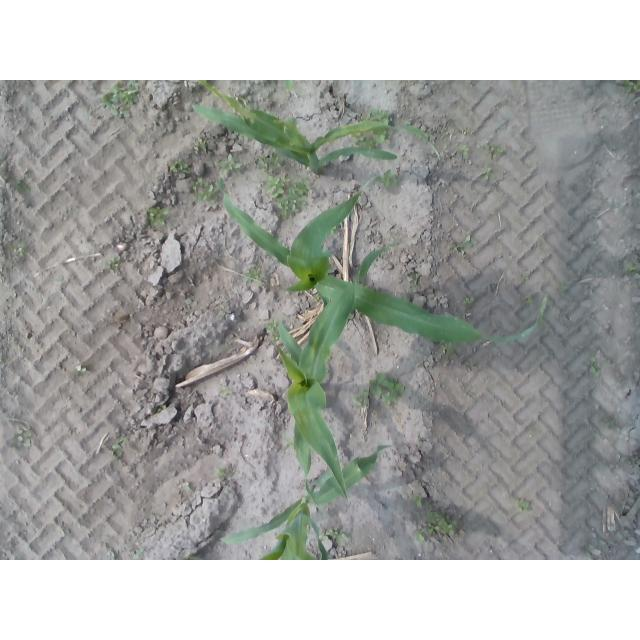Maize: (221, 178, 550, 345), (190, 81, 442, 176), (274, 268, 361, 505), (221, 444, 392, 560), (283, 80, 295, 93)
Weeds: (265, 174, 316, 219), (413, 506, 464, 543), (100, 80, 144, 122), (370, 371, 406, 405), (192, 176, 227, 202), (255, 152, 288, 173), (450, 235, 475, 258), (147, 204, 170, 229), (219, 154, 245, 175), (320, 527, 350, 545), (373, 170, 399, 189), (364, 108, 392, 124), (168, 154, 190, 174), (241, 265, 263, 284), (353, 132, 376, 149), (14, 177, 32, 198), (587, 355, 602, 380), (515, 497, 535, 515), (14, 428, 31, 449), (486, 143, 505, 161), (192, 138, 209, 157), (408, 491, 424, 510), (10, 243, 30, 258), (217, 383, 237, 398), (112, 435, 125, 458), (263, 317, 279, 335), (617, 80, 640, 92), (184, 298, 200, 314), (356, 391, 368, 411), (459, 144, 473, 161), (445, 344, 463, 357), (133, 545, 148, 560), (600, 416, 616, 430), (622, 260, 638, 274), (104, 546, 119, 560), (106, 256, 122, 269), (480, 166, 492, 183), (216, 467, 227, 484), (375, 131, 390, 143), (525, 294, 536, 310), (75, 365, 90, 376), (555, 283, 569, 294), (462, 357, 475, 368), (412, 273, 422, 287), (157, 405, 170, 415), (182, 483, 193, 494), (185, 553, 201, 560), (463, 297, 473, 308), (523, 272, 533, 281)
